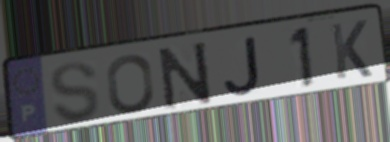1: (288, 24, 317, 92)
J: (222, 34, 264, 98)
K: (328, 18, 375, 82)
N: (156, 38, 216, 112)
O: (104, 52, 157, 116)
S: (48, 60, 103, 125)
